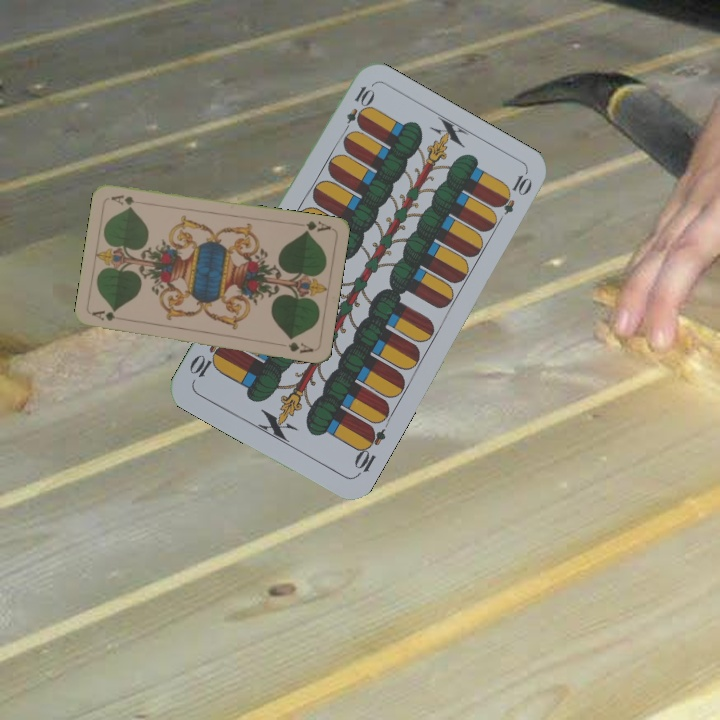E10: (349, 422, 388, 479), (338, 82, 376, 138)
GA: (89, 306, 129, 324), (299, 217, 333, 236)
